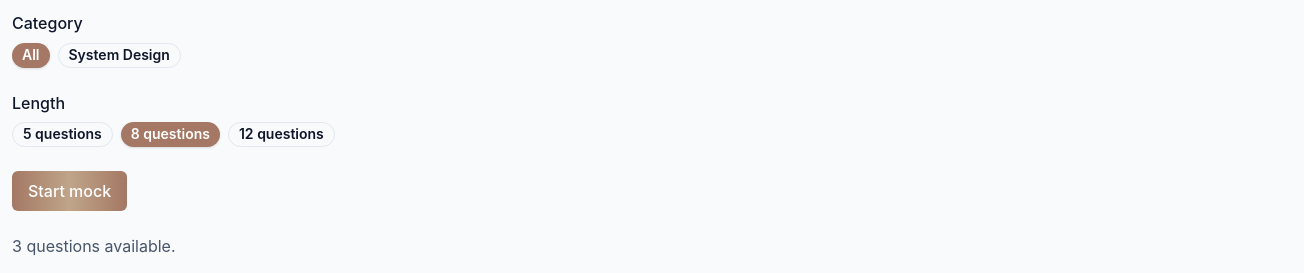
MockRunner timer › counts up once per second while running
Click the button "Start mock". click: [70, 191]
box: [12, 171, 127, 211]
Wait 3000 ms
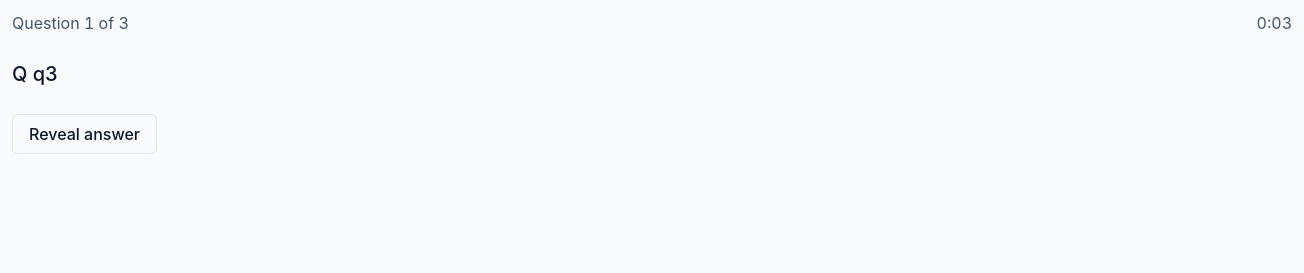
Expected: the text "0:03" is shown, [1257, 12, 1292, 35]
